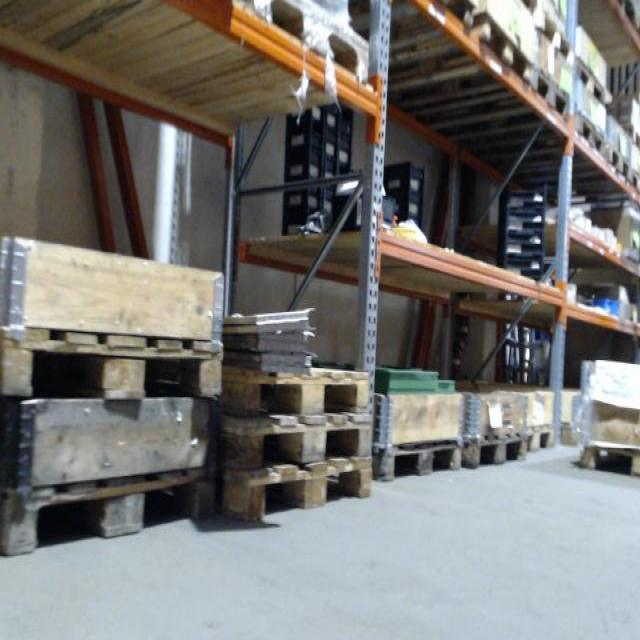pallet: (110, 2, 374, 99), (3, 459, 214, 560), (4, 327, 230, 413), (222, 460, 371, 519), (428, 20, 538, 97), (218, 416, 370, 469), (229, 371, 370, 416), (370, 435, 468, 491), (459, 433, 534, 480), (388, 3, 479, 38), (529, 8, 571, 69), (526, 81, 574, 132), (581, 444, 639, 477), (572, 60, 609, 111), (518, 424, 554, 471), (574, 115, 604, 168), (606, 141, 626, 187), (626, 167, 638, 198)
